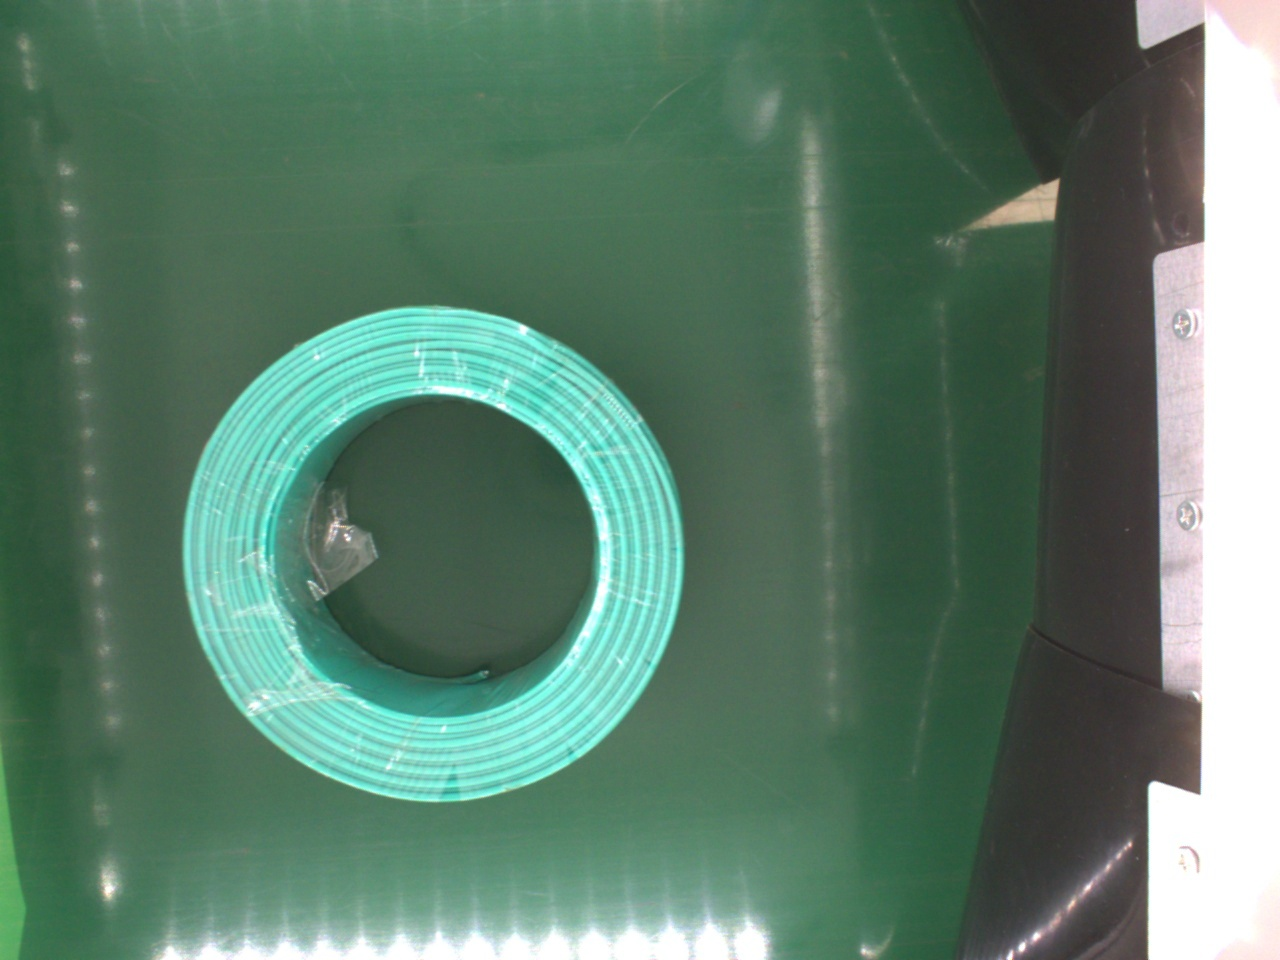green: (181, 301, 691, 807)
